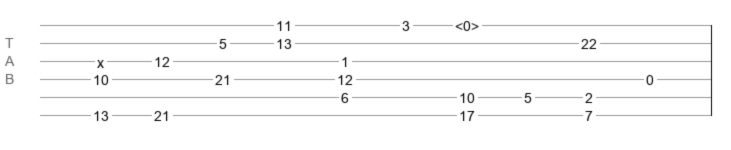0: (646, 72, 654, 82)
1: (341, 54, 349, 64)
10: (93, 72, 109, 82), (459, 90, 475, 100)
11: (276, 18, 292, 28)
12: (154, 54, 170, 64), (337, 72, 353, 82)
13: (93, 108, 109, 118), (276, 36, 292, 46)
17: (459, 108, 475, 118)
2: (585, 90, 593, 100)
21: (154, 108, 170, 118), (215, 72, 231, 82)
22: (581, 36, 597, 46)
3: (402, 18, 410, 28)
5: (219, 36, 227, 46), (524, 90, 532, 100)
6: (341, 90, 349, 100)
7: (585, 108, 593, 118)
harmonic: (455, 18, 479, 28)
x: (97, 55, 104, 63)
